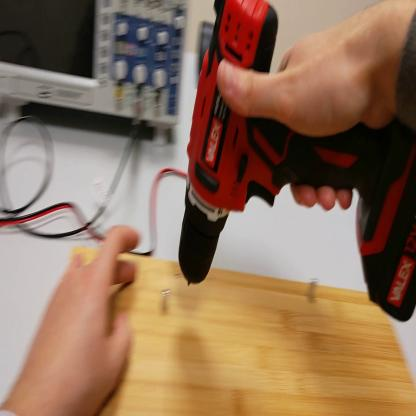electric screwdriver: (180, 2, 416, 327)
hand: (209, 4, 401, 213), (23, 227, 138, 406)
oscilloscope: (2, 3, 191, 153)
working area: (72, 245, 416, 415)
